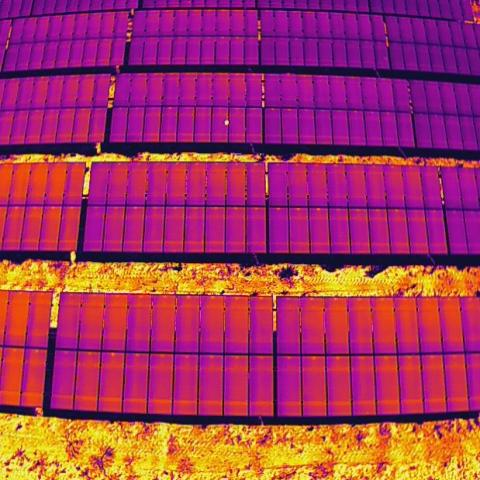fault: (223, 118, 230, 126)
